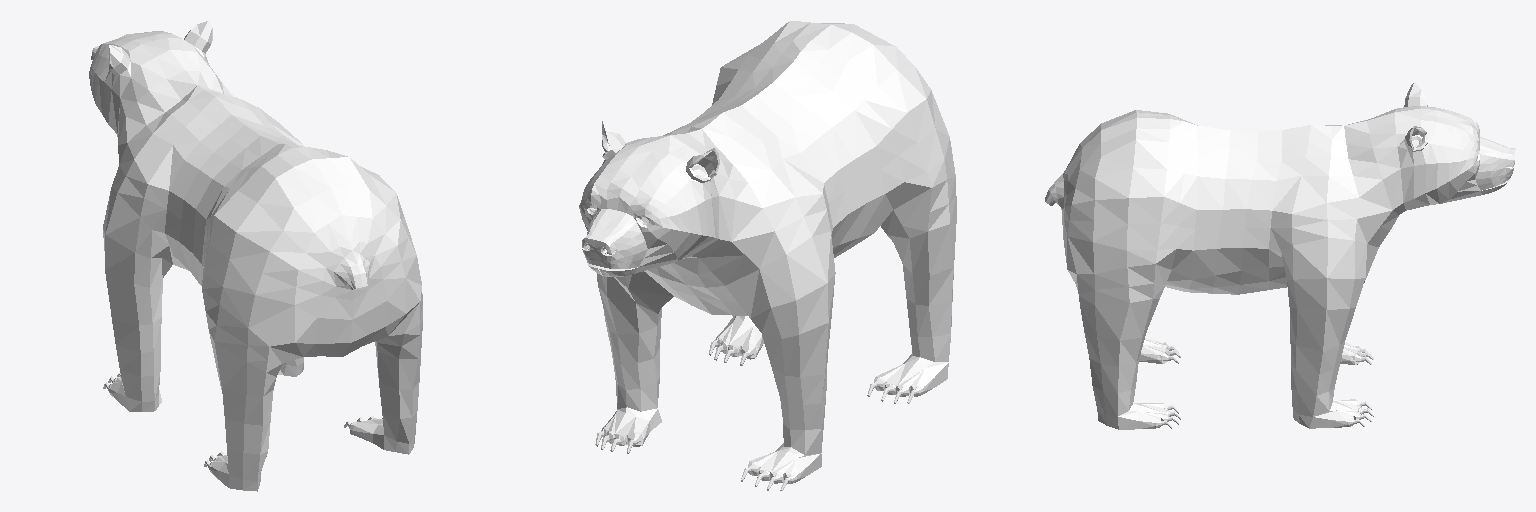
robot.urdf — bear:
<robot name="bear">
	<link name="_name">
		<visual>
			<origin rpy="0 0 0" xyz="-0.0011533094460602924 14.588164822467032 -70.2073" />
			<geometry>
				<mesh filename="bear/821c4789edfbcdda84a6218346f27787.obj" scale="1 1 1" />
			</geometry>
			<material name="texture">
				<color rgba="1.0 1.0 1.0 1.0" />
			</material>
		</visual>
		<collision>
			<geometry>
				<mesh filename="bear/821c4789edfbcdda84a6218346f27787_vhacd.obj" scale="1 1 1" />
			</geometry>
		<origin rpy="0 0 0" xyz="-0.0011533094460602924 14.588164822467032 -70.2073" /></collision>
		<inertial>
			<mass value="1.0" />
			<inertia ixx="1.0" ixy="0.0" ixz="0.0" iyy="1.0" iyz="0.0" izz="1.0" />
		</inertial>
	</link>
</robot>

--- Render facts (derived) ---
3 views of the same robot in one strip: view 1: azimuth 30°, elevation 25°; view 2: azimuth 150°, elevation 25°; view 3: azimuth 270°, elevation 25° (orthographic).
Robot: bear — 1 links, 0 joints (none); root link _name; default pose: all joints at 0.
Visible links, largest first — view 1: _name; view 2: _name; view 3: _name.
Link boxes in pixels (<box>): _name: <box>89,20,422,491</box>; _name: <box>579,21,956,490</box>; _name: <box>1045,82,1515,429</box>.
Bounding box of the posed robot: 47.84 × 105 × 70.75 m (x, y, z).
1 mesh visuals loaded from 1 distinct referenced files (1 OBJ).